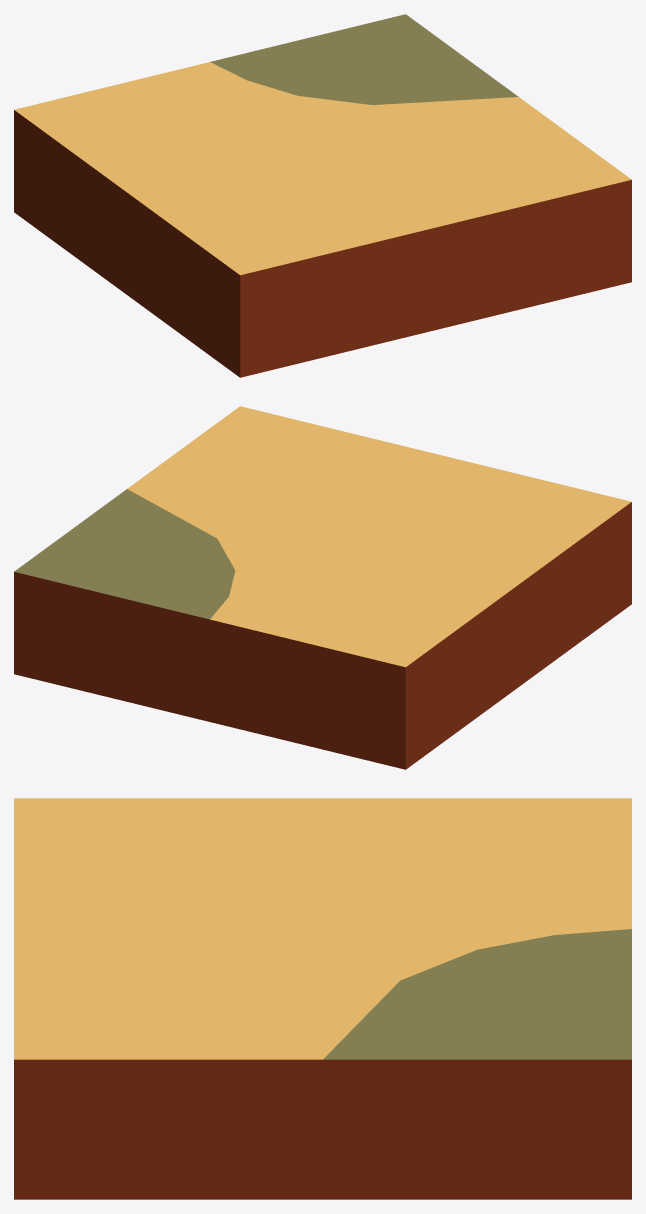
Rendered from cornerInt_grass_to_sand.fbx.
3 views of the same model, one above another, from view 1: azimuth 30°, elevation 25°; view 2: azimuth 150°, elevation 25°; view 3: azimuth 270°, elevation 25° (orthographic). The views are drawn at different scales.
Visible parts, largest first — view 1: cornerInt_grass_to_sand; view 2: cornerInt_grass_to_sand; view 3: cornerInt_grass_to_sand.
Part boxes in pixels (left/top/right/bottom): cornerInt_grass_to_sand: left=14, top=14, right=631, bottom=377; cornerInt_grass_to_sand: left=14, top=406, right=631, bottom=769; cornerInt_grass_to_sand: left=14, top=798, right=631, bottom=1199.
Size of the model in its own units: 200 by 50 by 200.
1 material, 1 textured.
